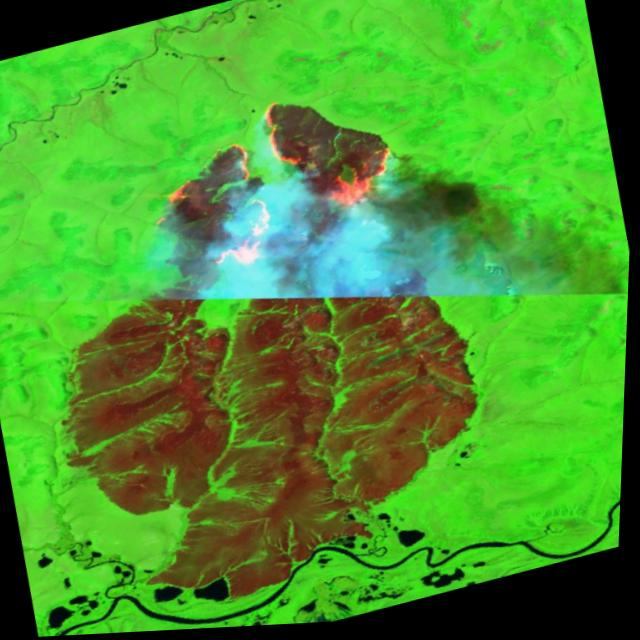fire: (131, 75, 413, 292)
